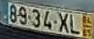3: (31, 8, 40, 28)
4: (42, 11, 52, 30)
8: (8, 3, 17, 23)
9: (18, 5, 27, 25)
L: (69, 14, 81, 35)
X: (56, 12, 69, 34)
